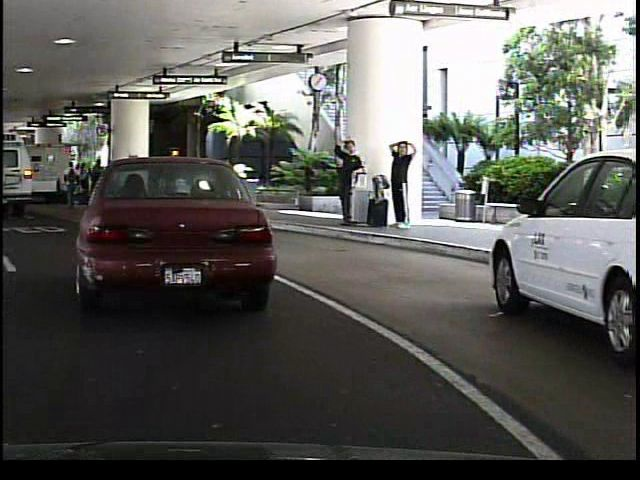person: (330, 134, 362, 227), (384, 135, 414, 232), (211, 151, 239, 217), (352, 151, 373, 222)
